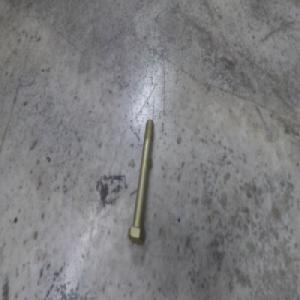Bolt: (129, 119, 154, 245)
